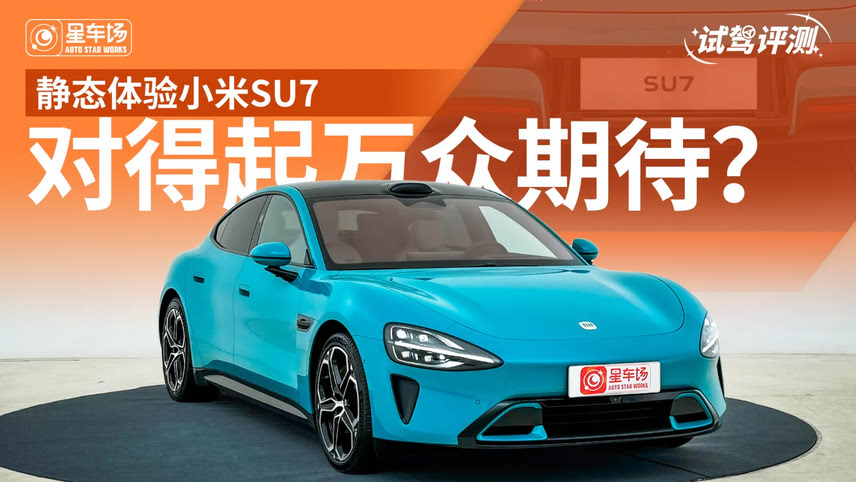su7: (147, 177, 729, 470)
